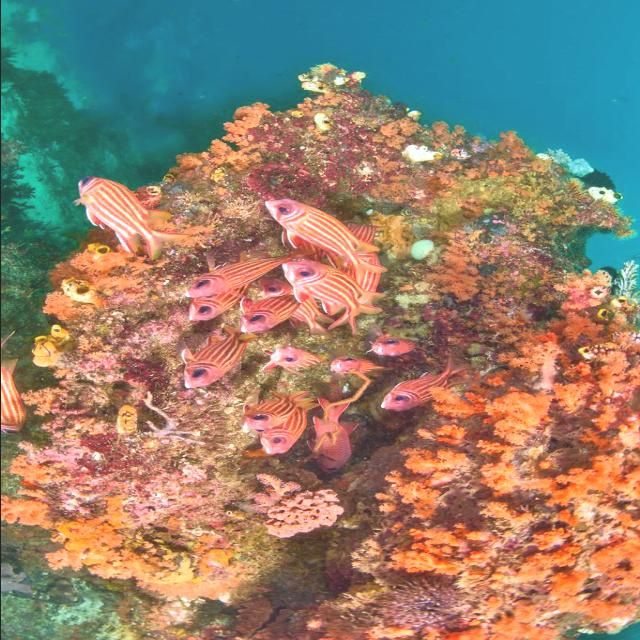Asker Baligi: (54, 168, 192, 270), (251, 192, 401, 280), (372, 342, 488, 424), (303, 381, 365, 478), (162, 334, 256, 394), (254, 328, 344, 386)
